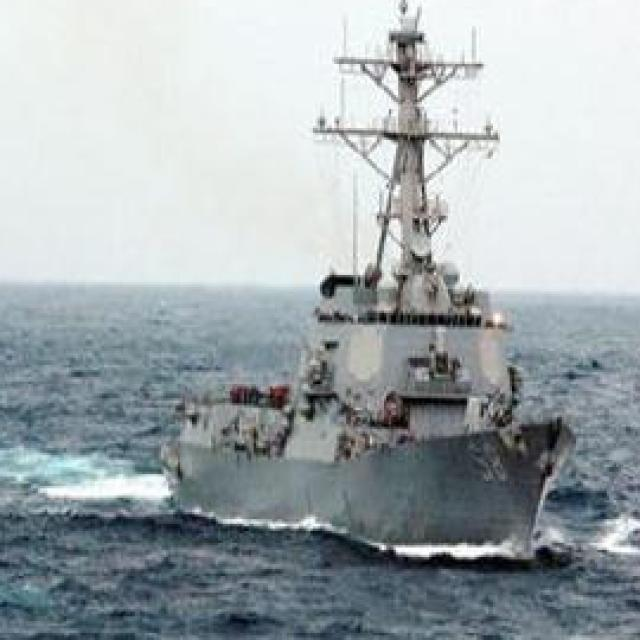navalvessels: (145, 0, 576, 562)
